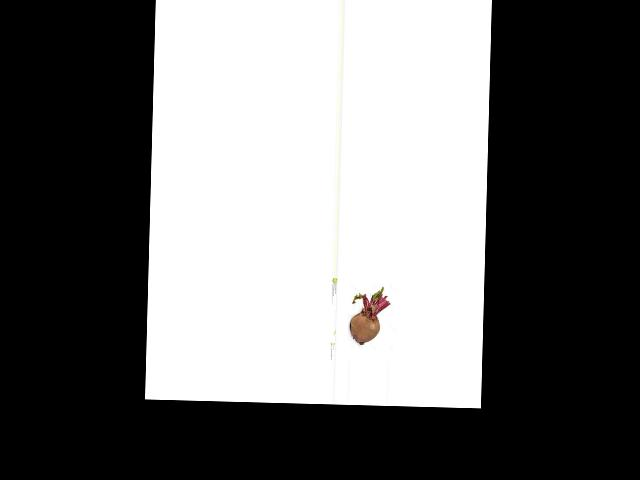beet: (349, 286, 390, 346)
